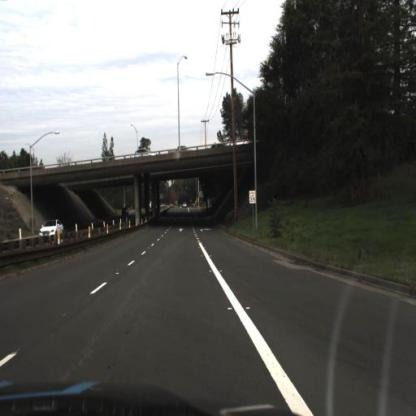car: (132, 146, 158, 158)
